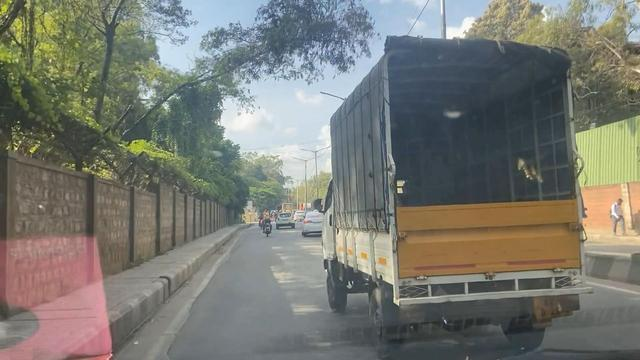HMV: (325, 26, 606, 357)
